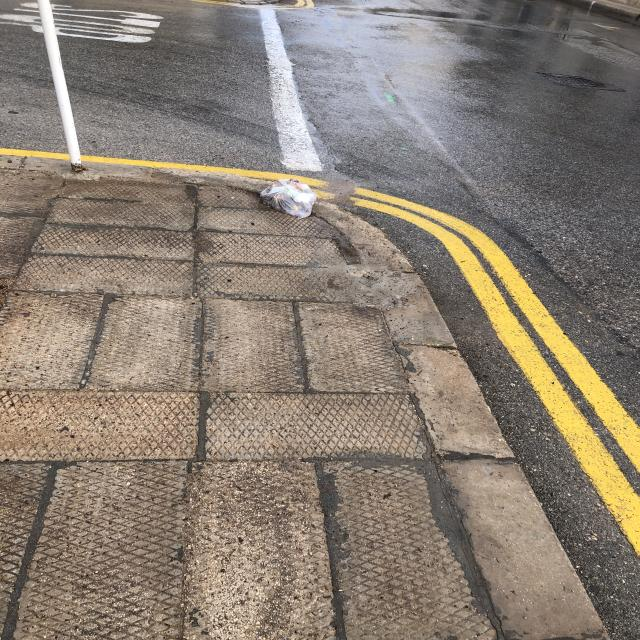Organic Waste -White Bag-: (256, 179, 321, 224)
